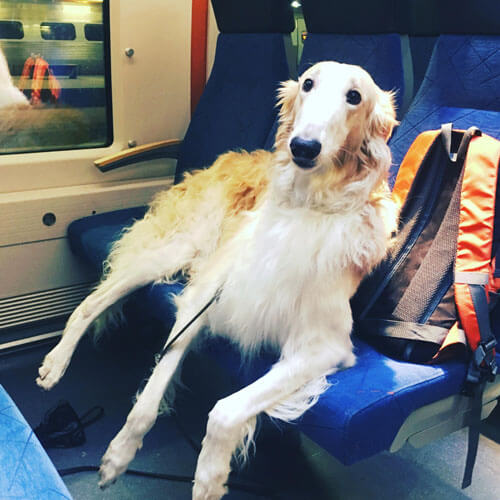borzoi: (34, 56, 403, 500)
